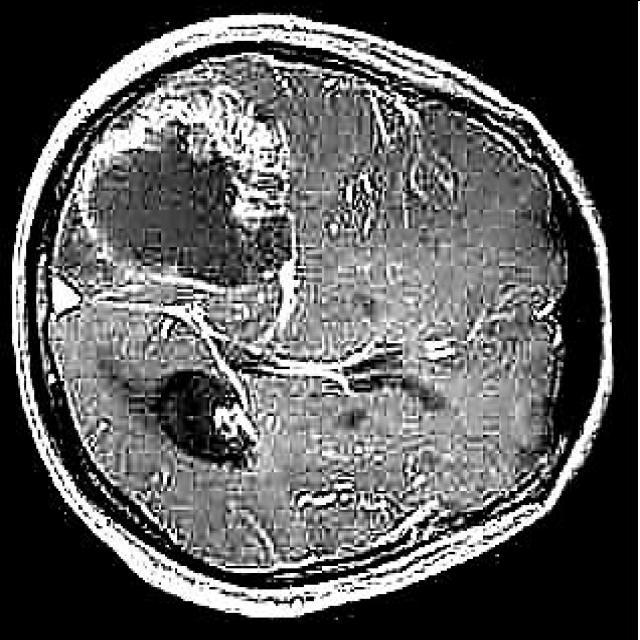tumor: (58, 115, 294, 293)
